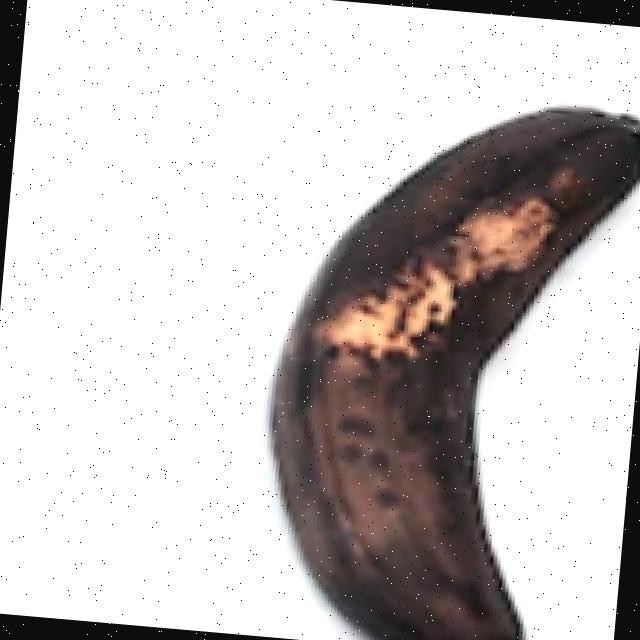Rotten: (211, 57, 640, 640)
